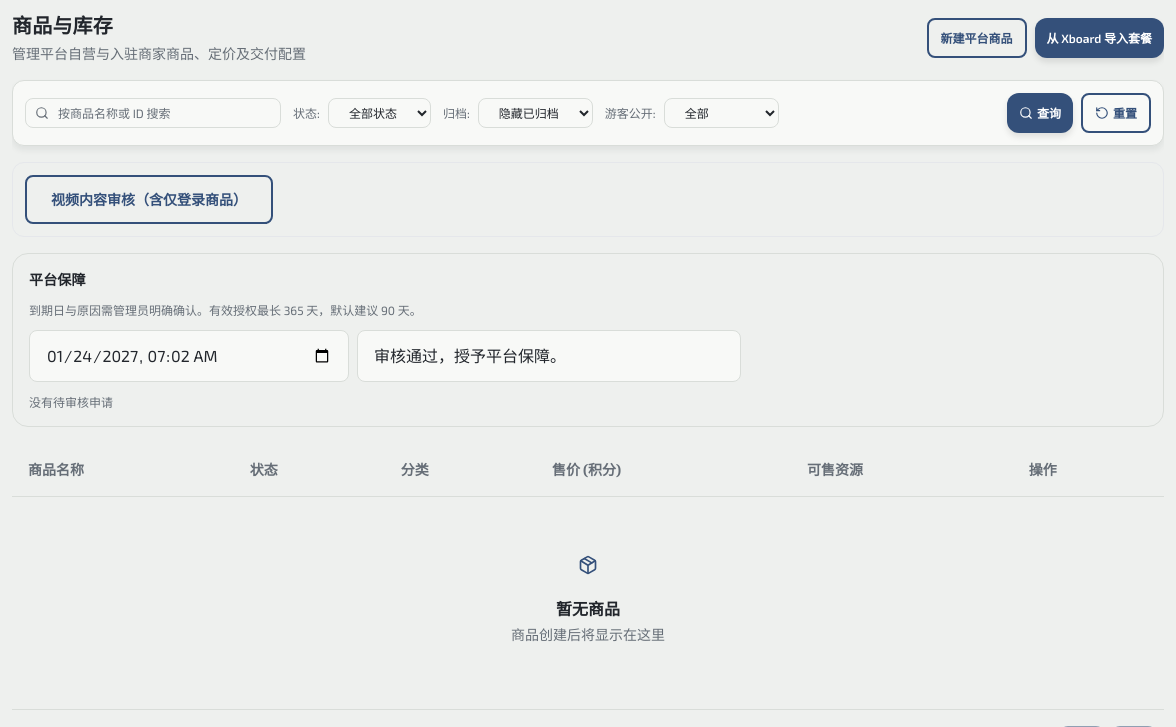
Scenario: AdminProductPanel (PR 04) › displays filtered empty state and allows clearing filters
Expected: the text "暂无商品" is shown, 556,597 -> 620,621
Note: Trigger search with query
Type "Nonexistent" into the field with test id "admin-products-search-input" at (153, 113), box 25,98 -> 281,128
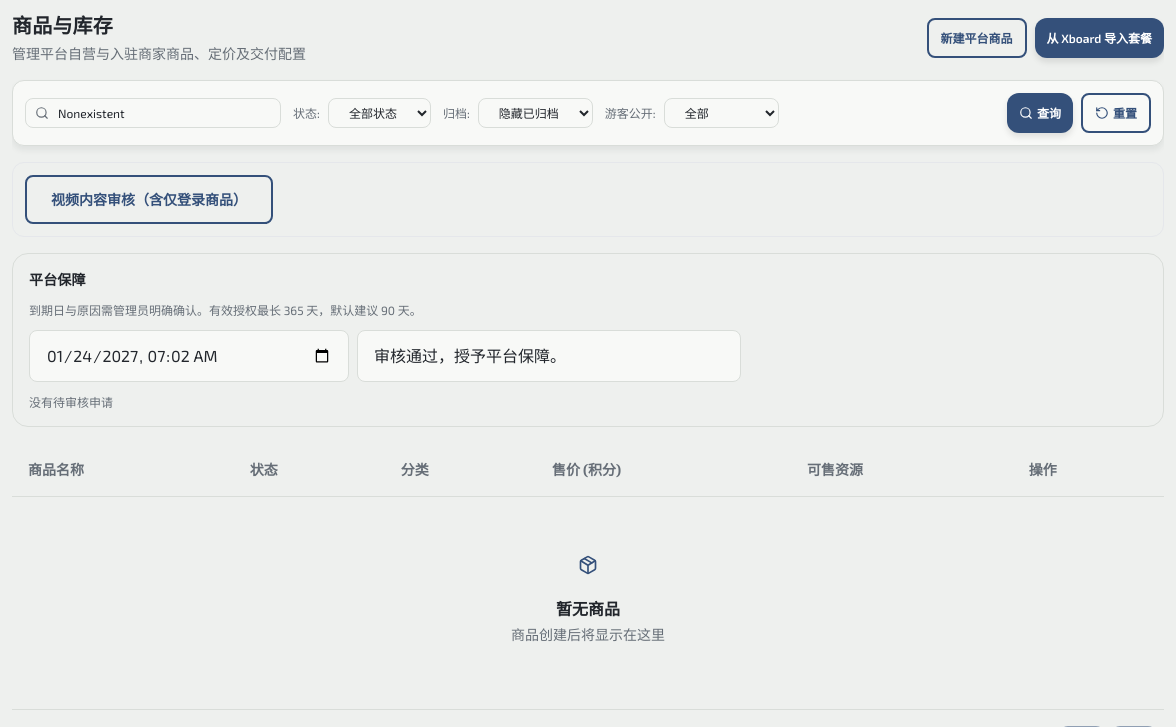
Click the button with test id "admin-products-search-btn" at (1040, 113), box 1007,93 -> 1073,133
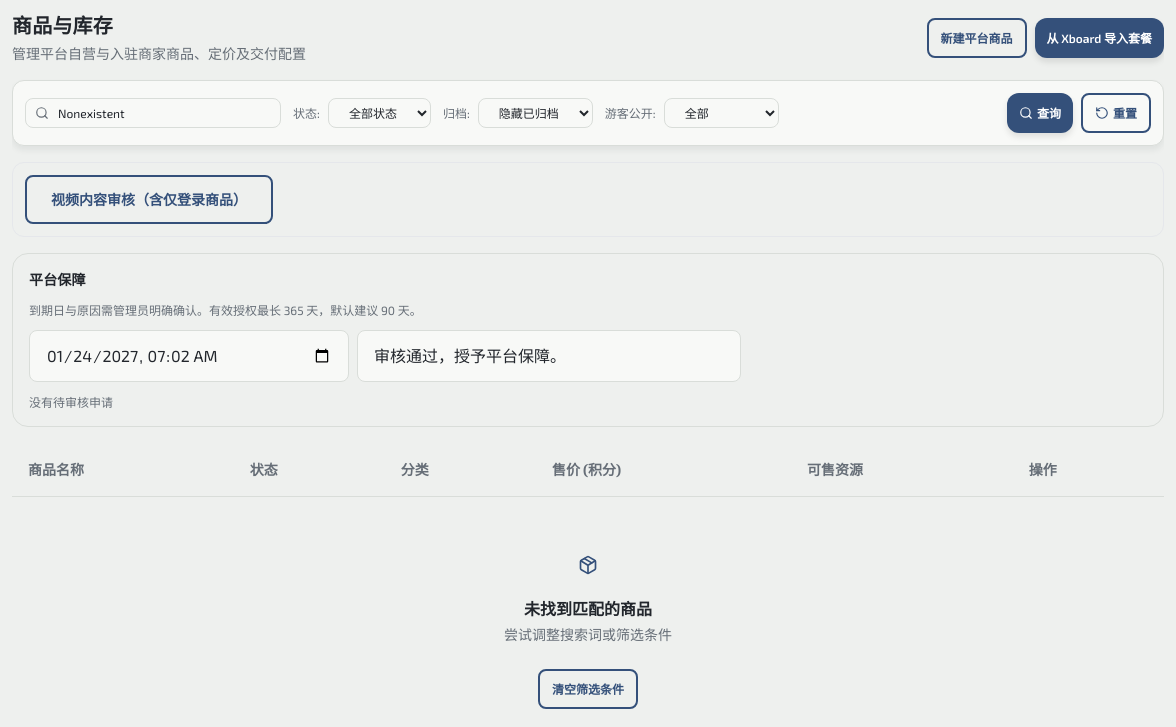
Expected: the text "未找到匹配的商品" is shown, 524,597 -> 652,621
Expected: the button with test id "admin-products-empty-reset" is shown
Click the button with test id "admin-products-empty-reset" at (588, 689), box 538,669 -> 638,709
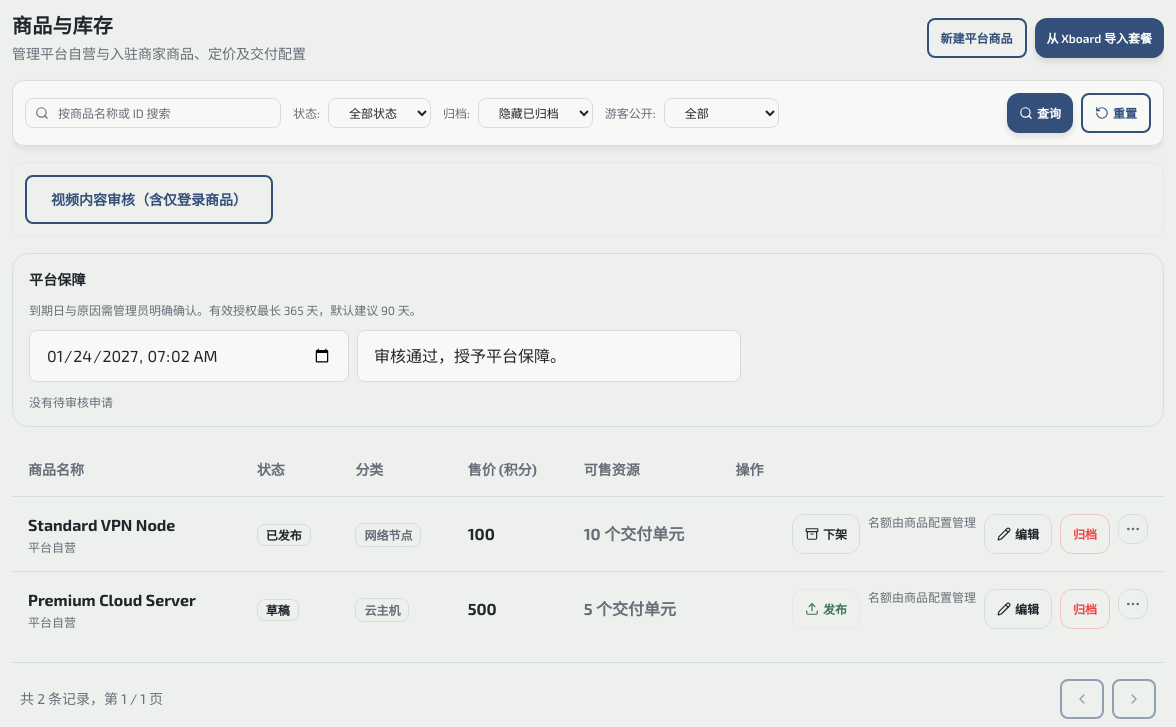
Expected: the text "Standard VPN Node" is shown, 28,515 -> 175,534
Expected: the field with test id "admin-products-search-input" is empty, 25,98 -> 281,128
